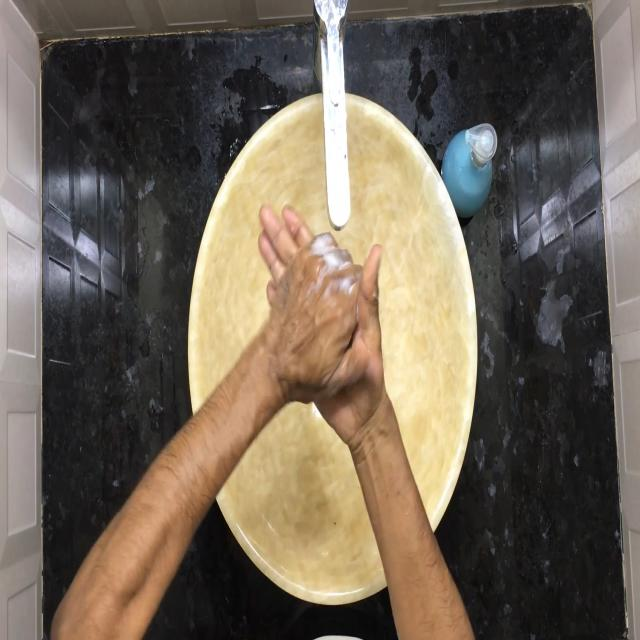step_5: (247, 186, 396, 440)
